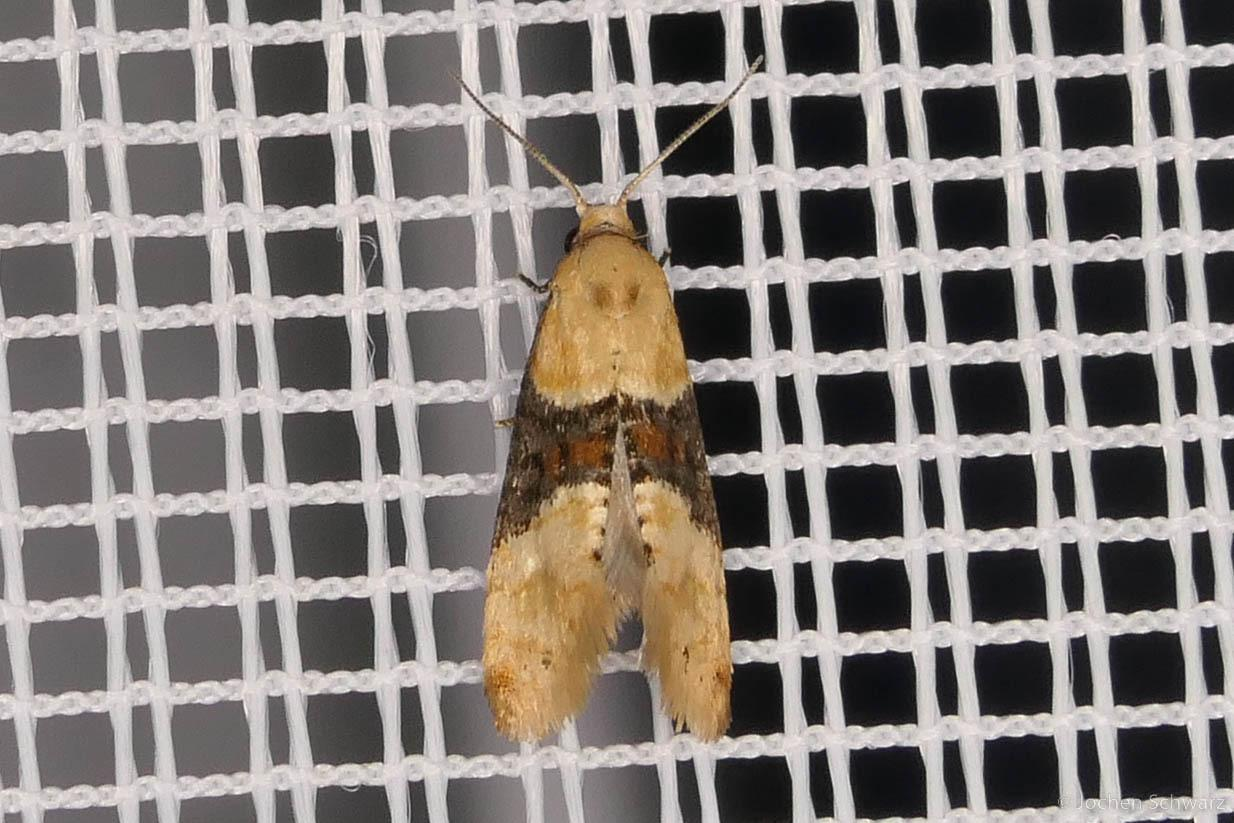Eupoecilia Ambiguella: (445, 51, 771, 748)
